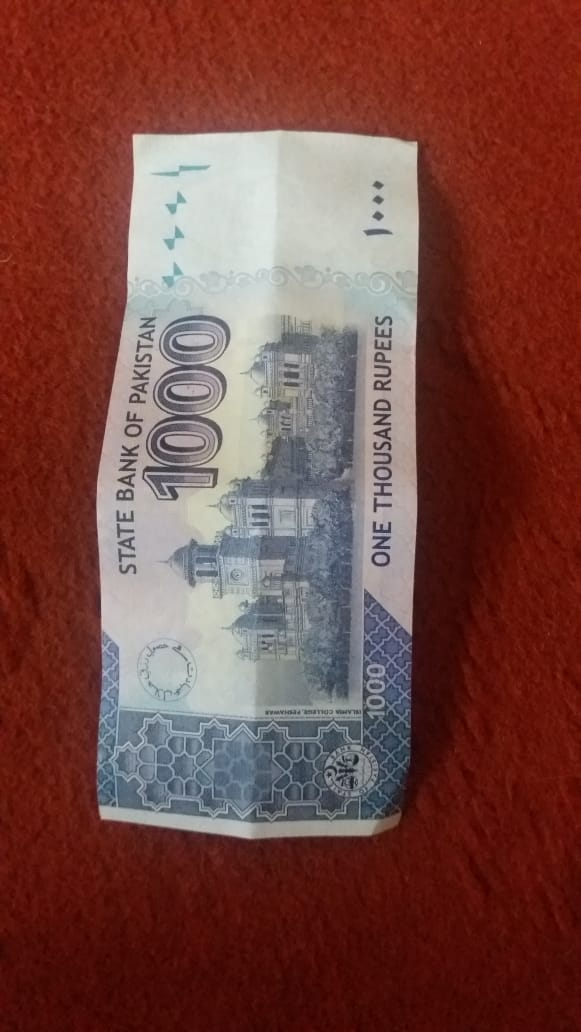1000 rupee: (78, 105, 449, 876)
